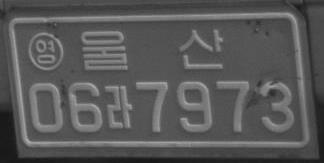0: (27, 81, 63, 134)
3: (260, 80, 294, 134)
6: (67, 81, 103, 134)
7: (215, 80, 251, 132), (135, 80, 168, 132)
9: (175, 80, 211, 133)
라: (103, 84, 132, 129)
영: (27, 32, 64, 71)
울산_D: (81, 29, 223, 71)
